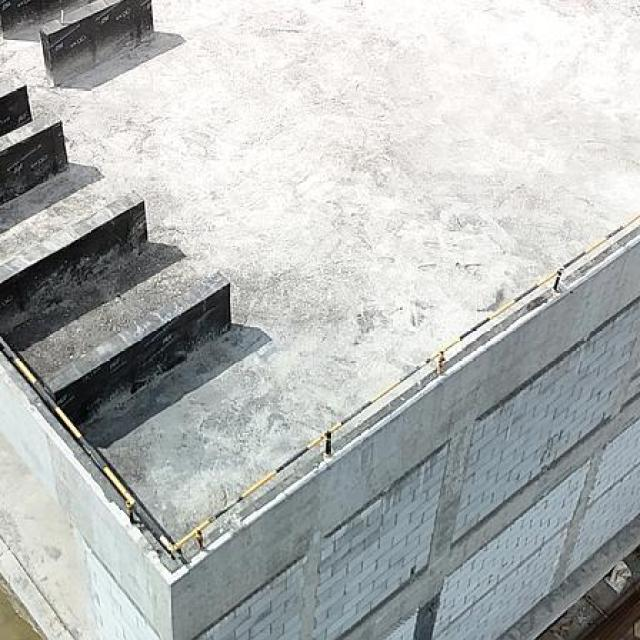edge_guardrail: (0, 210, 640, 556)
